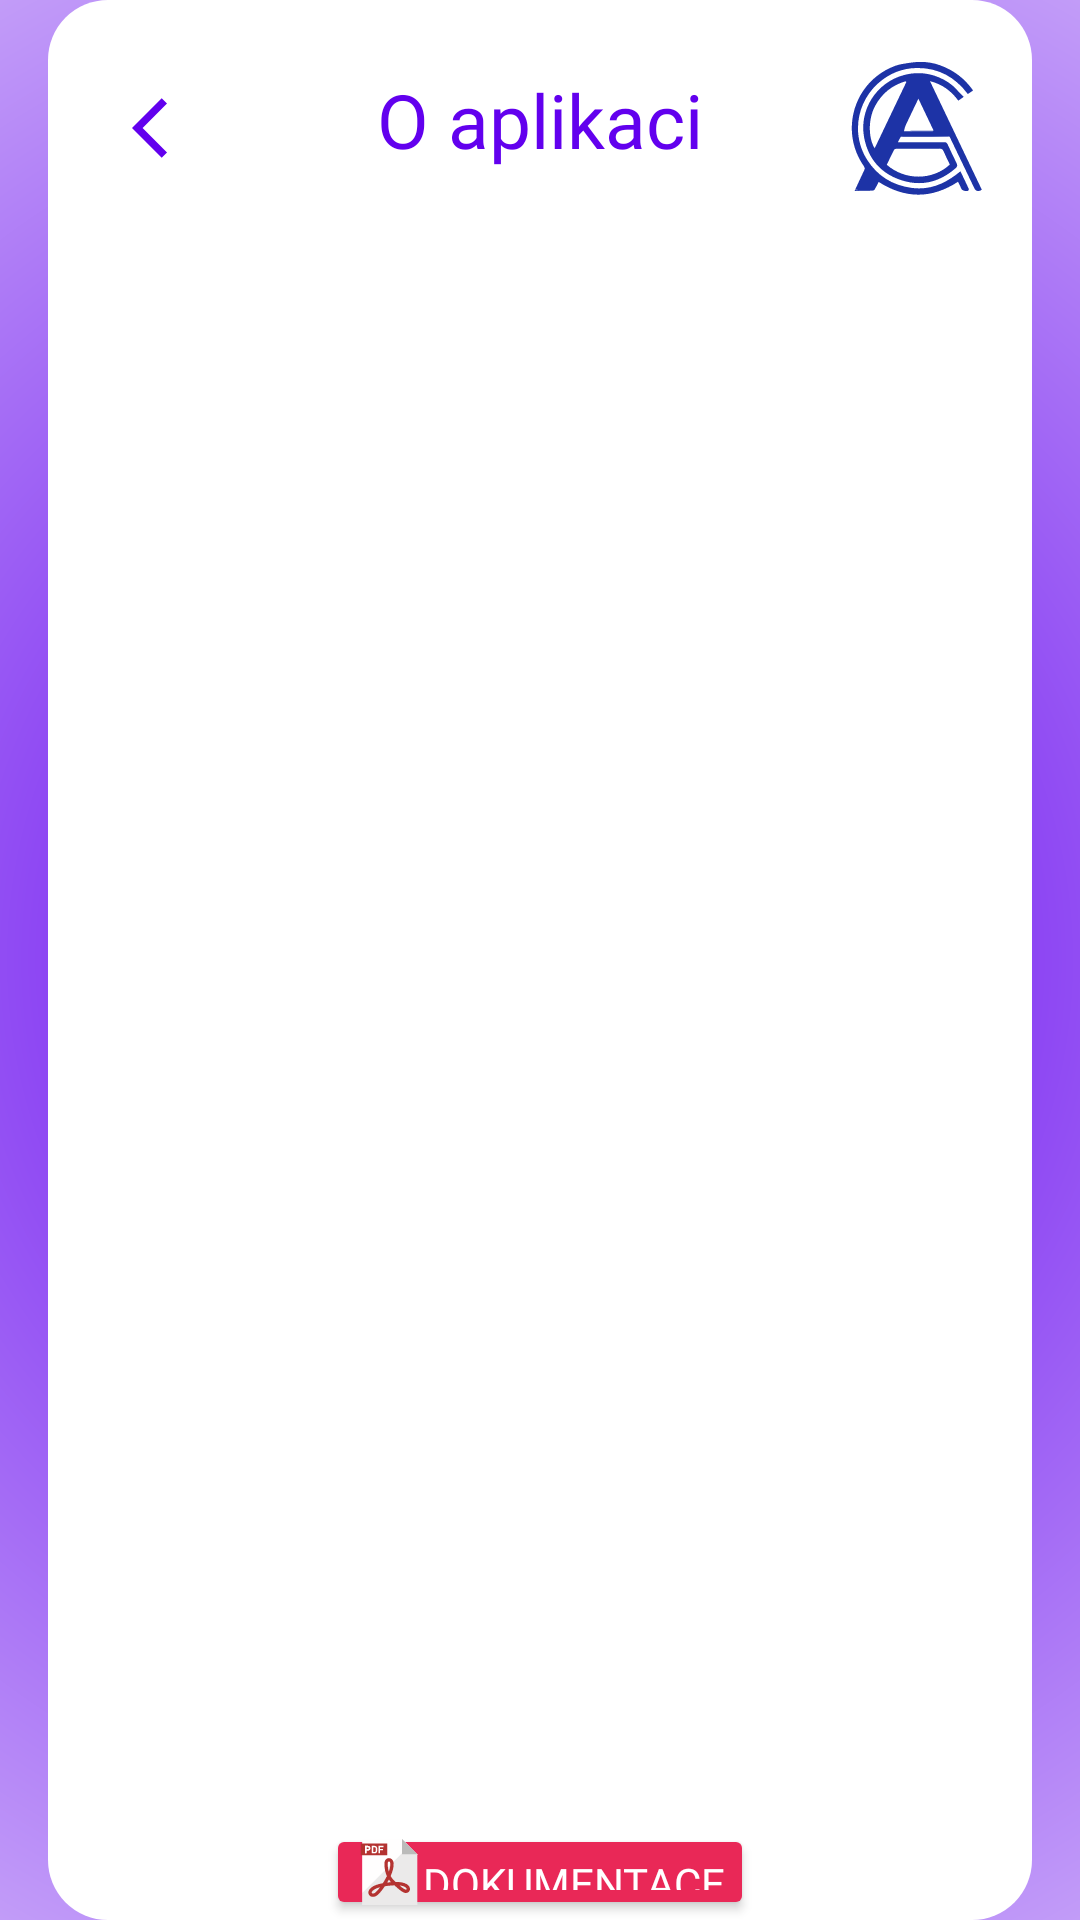

Named icons in this screenshot (1080*1920) and their centers, point (x, y):
Zpět: point (149, 128)
